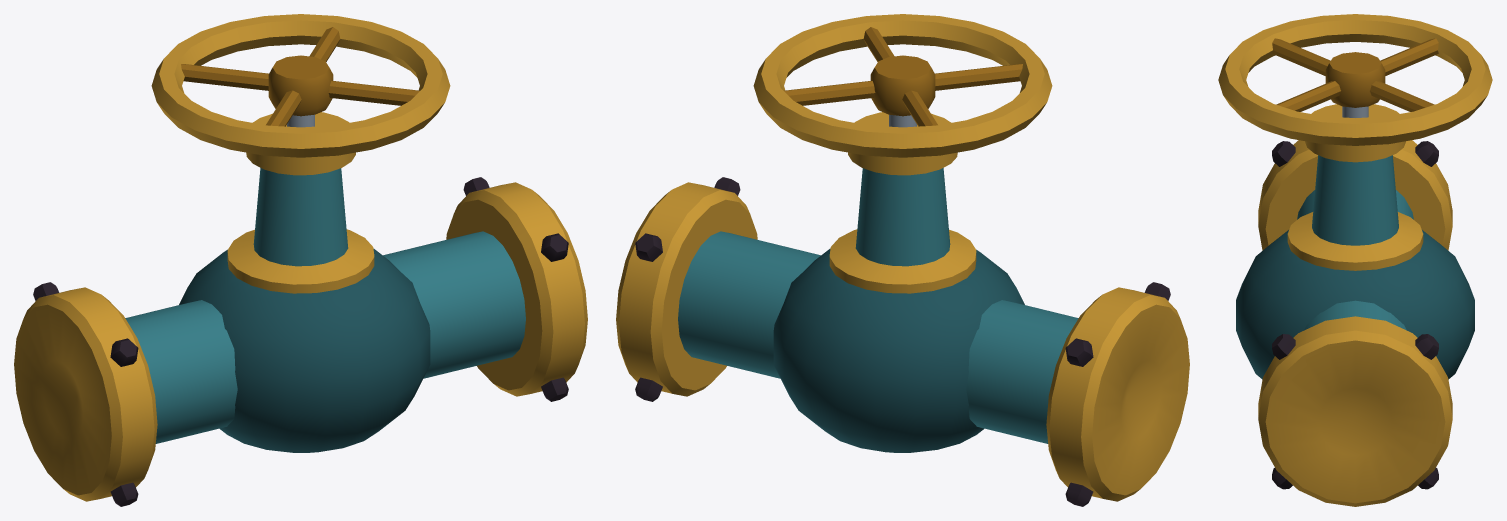
File: Valve_12.glb
3 renders of one model, left to right at view 1: azimuth 30°, elevation 25°; view 2: azimuth 150°, elevation 25°; view 3: azimuth 270°, elevation 25°, orthographic. The views are drawn at different scales.
Parts seen in each view (by area): view 1: Valve_12; view 2: Valve_12; view 3: Valve_12.
Part boxes in pixels (x1,y1,x2,y2): Valve_12: (14, 14, 587, 506); Valve_12: (616, 14, 1189, 506); Valve_12: (1218, 14, 1492, 506).
Size of the model in its own units: 2.71 by 2.03 by 1.47.
